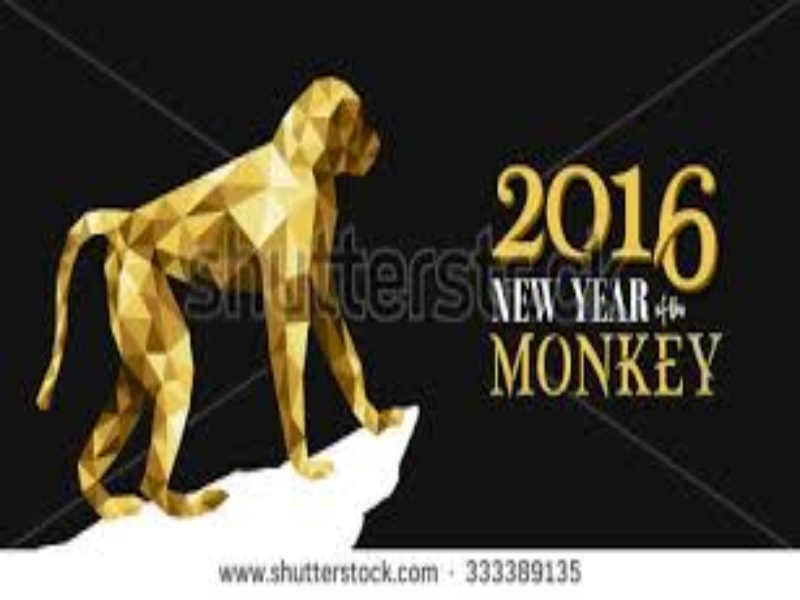monkey: (32, 70, 436, 525)
